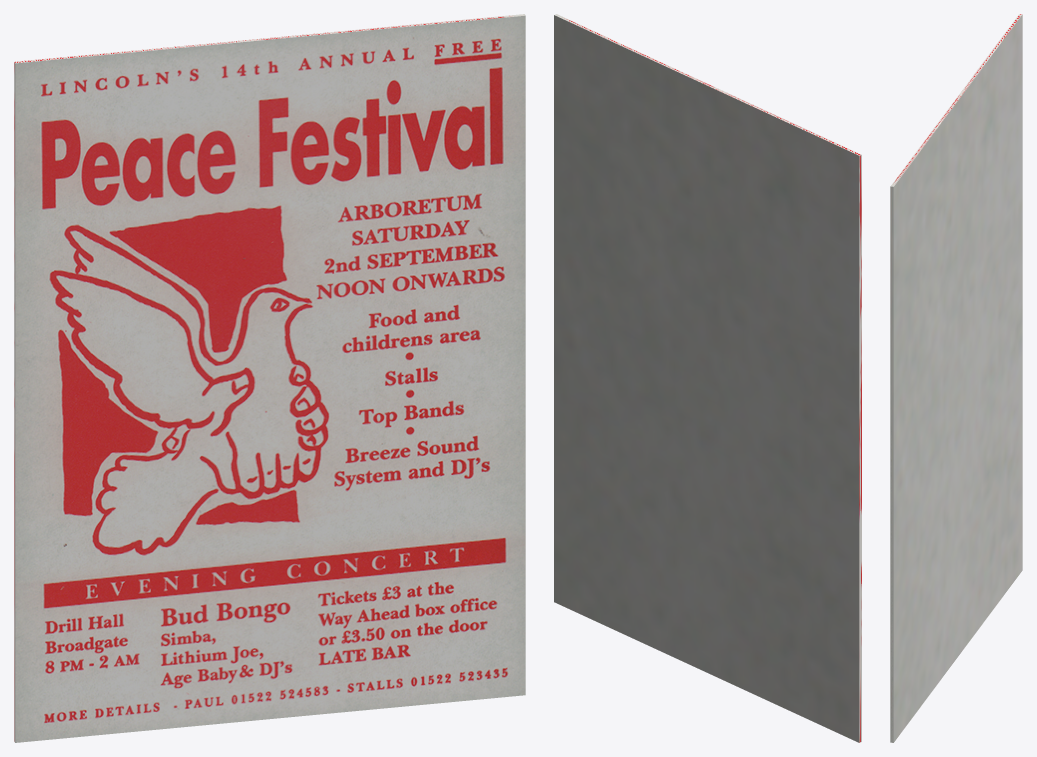
The model's file is peace.glb.
3 views of the same model, side by side, from view 1: azimuth 30°, elevation 25°; view 2: azimuth 150°, elevation 25°; view 3: azimuth 270°, elevation 25° (orthographic). The views are drawn at different scales.
Parts seen in each view (by area): view 1: Poster1.005; view 2: Poster1.005; view 3: Poster1.005.
Part boxes in pixels (x1,y1,x2,y2): Poster1.005: (14, 14, 525, 742); Poster1.005: (554, 14, 861, 742); Poster1.005: (890, 14, 1022, 742).
Bounding box in the file's own units: 0.2224 × 0.3336 × 0.0718.
Materials: 1 (1 with a texture image).
